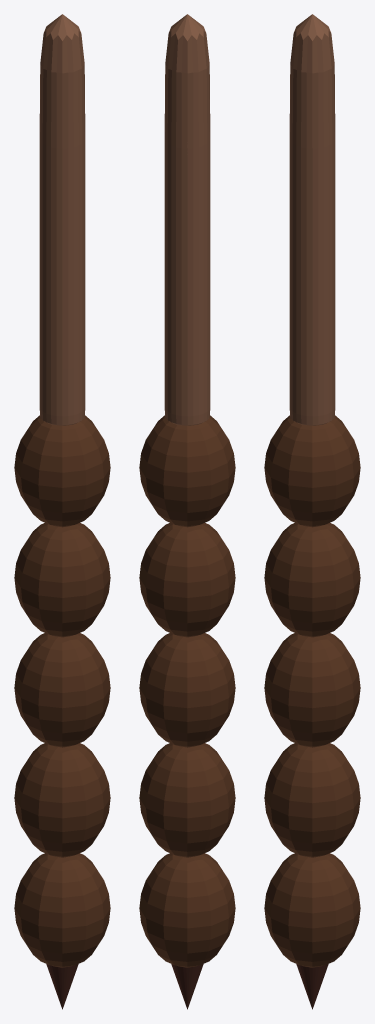
File: Wand 212.glb
3 views of the same model, side by side, from view 1: azimuth 30°, elevation 25°; view 2: azimuth 210°, elevation 25°; view 3: azimuth 270°, elevation 25° (orthographic).
Visible parts, largest first — view 1: GeneratedWand; view 2: GeneratedWand; view 3: GeneratedWand.
Boxes of the visible parts, x1,y1,x2,y2 form: GeneratedWand: [14, 14, 110, 1009]; GeneratedWand: [139, 14, 235, 1009]; GeneratedWand: [264, 14, 360, 1009].
Bounding box in the file's own units: 0.0447 × 0.5128 × 0.0449.
